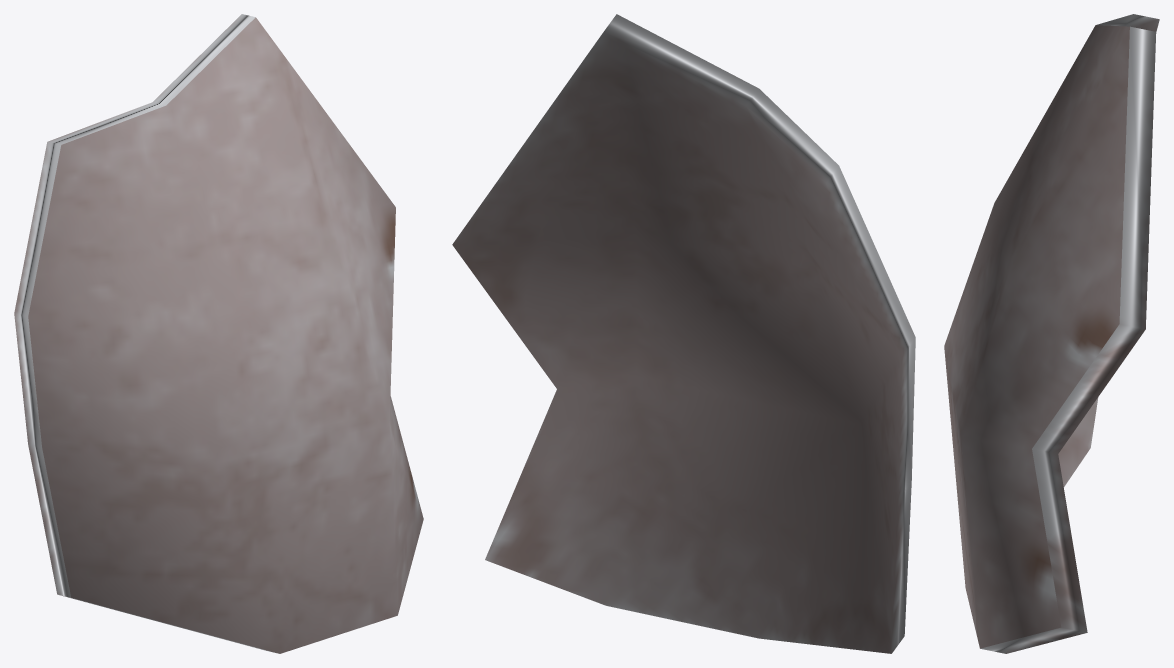
File: Asset_BreakPiece_A_01.fbx
3 views of the same model, side by side, from view 1: azimuth 30°, elevation 25°; view 2: azimuth 150°, elevation 25°; view 3: azimuth 270°, elevation 25° (orthographic). The views are drawn at different scales.
Visible parts, largest first — view 1: Asset_BreakPiece_A_01; view 2: Asset_BreakPiece_A_01; view 3: Asset_BreakPiece_A_01.
Part boxes in pixels (x1,y1,x2,y2): Asset_BreakPiece_A_01: [14, 14, 423, 653]; Asset_BreakPiece_A_01: [452, 14, 915, 653]; Asset_BreakPiece_A_01: [944, 14, 1159, 653].
Size of the model in its own units: 176 by 254 by 83.28.
